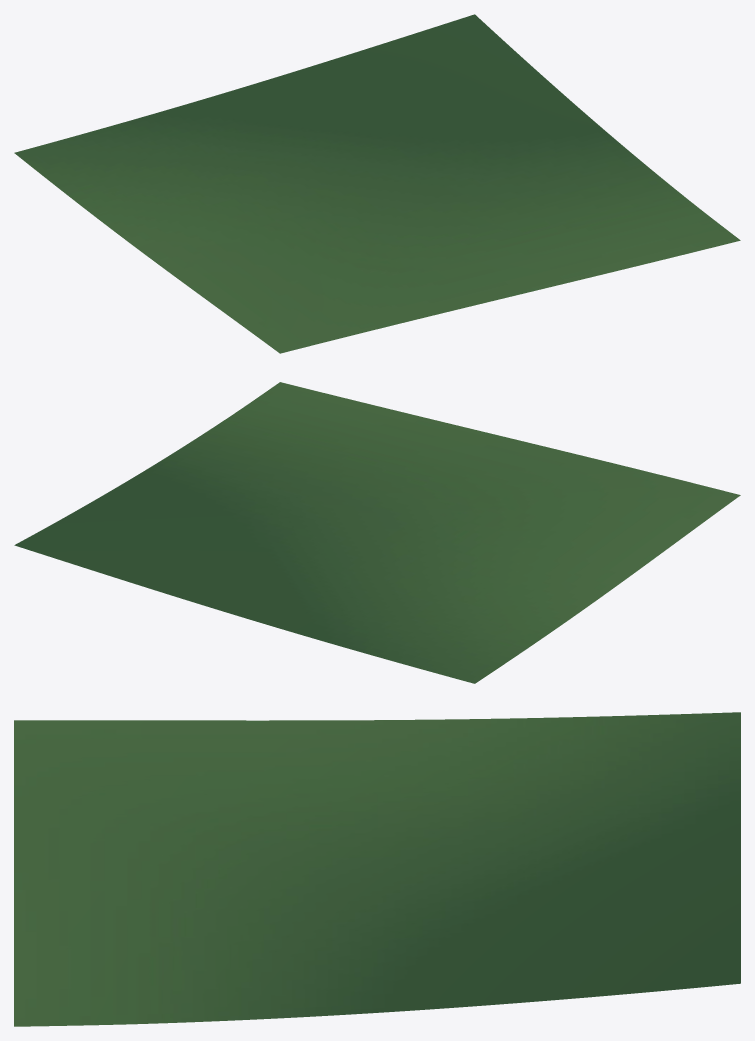
The model's file is terrain_T_W02_N04.glb.
3 views of the same model, one above another, from view 1: azimuth 30°, elevation 25°; view 2: azimuth 150°, elevation 25°; view 3: azimuth 270°, elevation 25° (orthographic). The views are drawn at different scales.
Parts seen in each view (by area): view 1: Terrain_T_W02_N04; view 2: Terrain_T_W02_N04; view 3: Terrain_T_W02_N04.
Part boxes in pixels (bbox=[...]): Terrain_T_W02_N04: bbox=[14, 14, 740, 353]; Terrain_T_W02_N04: bbox=[14, 382, 740, 683]; Terrain_T_W02_N04: bbox=[14, 712, 740, 1026].
Bounding box in the file's own units: 2000 × 134 × 2000.
Materials: 1 (1 with a texture image).
